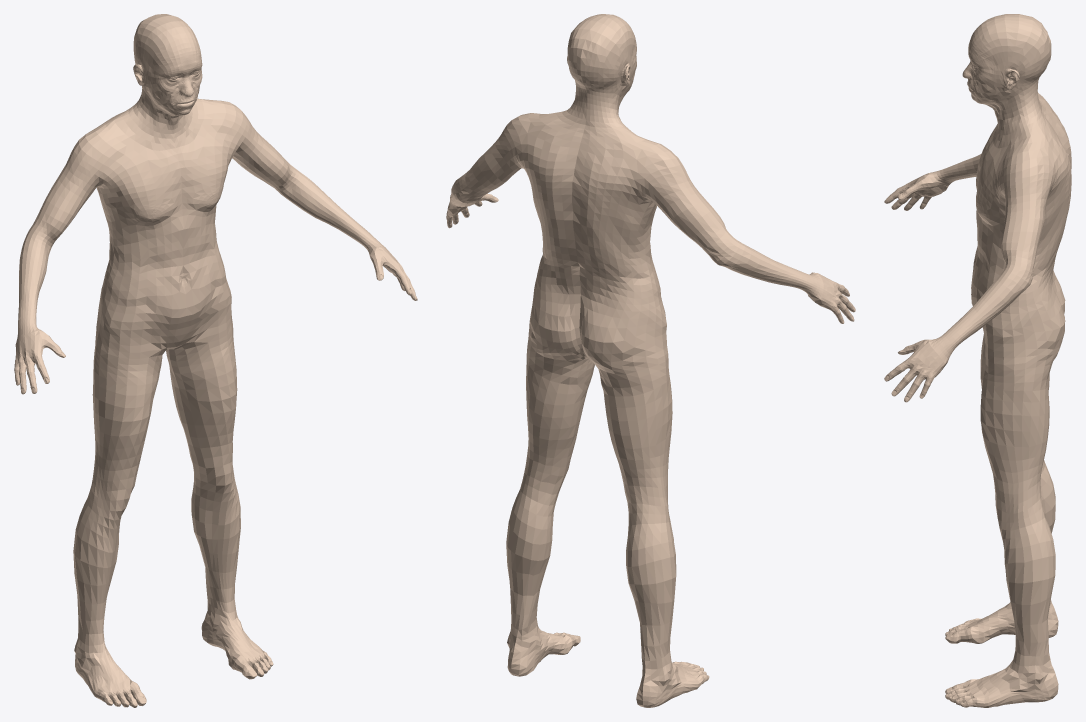
File: male-older-fit-high.glb
3 views of the same model, side by side, from view 1: azimuth 30°, elevation 25°; view 2: azimuth 150°, elevation 25°; view 3: azimuth 270°, elevation 25° (orthographic).
Parts seen in each view (by area): view 1: world; view 2: world; view 3: world.
Part boxes in pixels (box(x1,y1,x2,y2)): world: box(14, 14, 417, 707); world: box(446, 14, 855, 707); world: box(884, 14, 1071, 707).
Size of the model in its own units: 1.22 by 1.93 by 0.5023.
